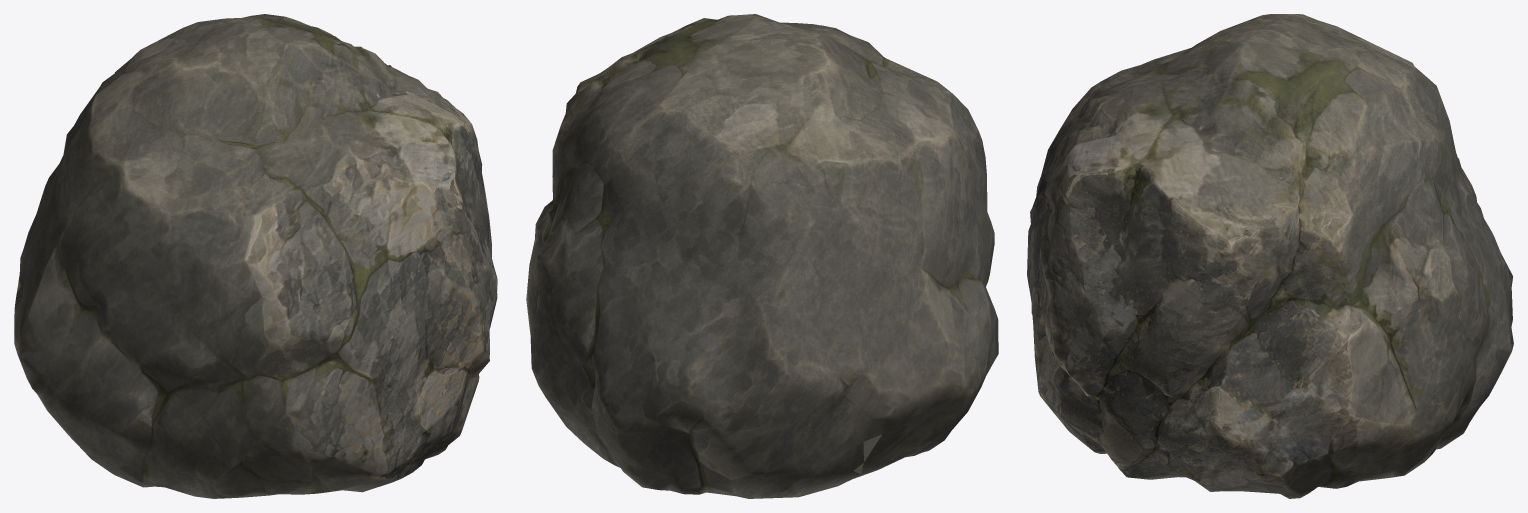
Rendered from Meshy_AI_Mossy_Boulder_1021004754_texture.fbx.
3 renders of one model, left to right at view 1: azimuth 30°, elevation 25°; view 2: azimuth 150°, elevation 25°; view 3: azimuth 270°, elevation 25°, orthographic.
Parts seen in each view (by area): view 1: Mesh_0; view 2: Mesh_0; view 3: Mesh_0.
Part boxes in pixels (x1,y1,x2,y2): Mesh_0: [14, 14, 497, 498]; Mesh_0: [526, 14, 998, 498]; Mesh_0: [1027, 14, 1513, 498].
Size of the model in its own units: 95.75 by 83.35 by 94.19.
1 material, 1 textured.
